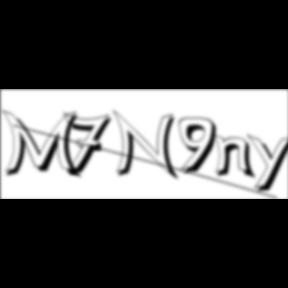7: (62, 111, 118, 179)
9: (178, 117, 224, 177)
M: (1, 108, 85, 181)
N: (113, 109, 183, 183)
n: (212, 132, 260, 181)
